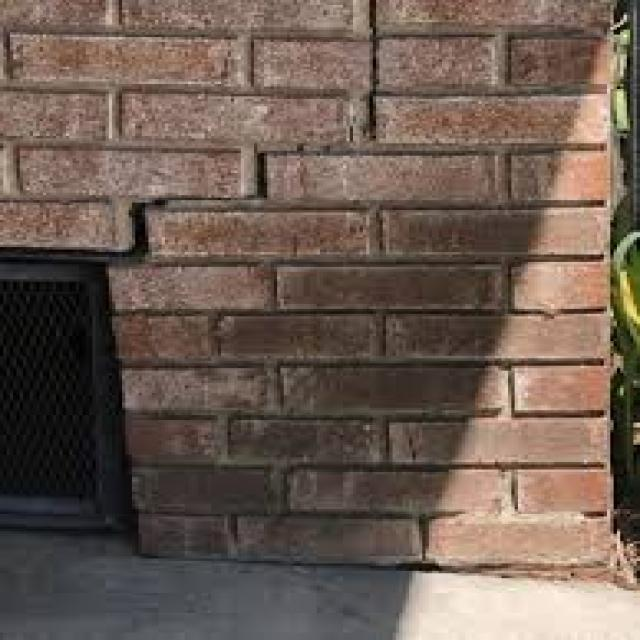Crack: (116, 0, 380, 257)
